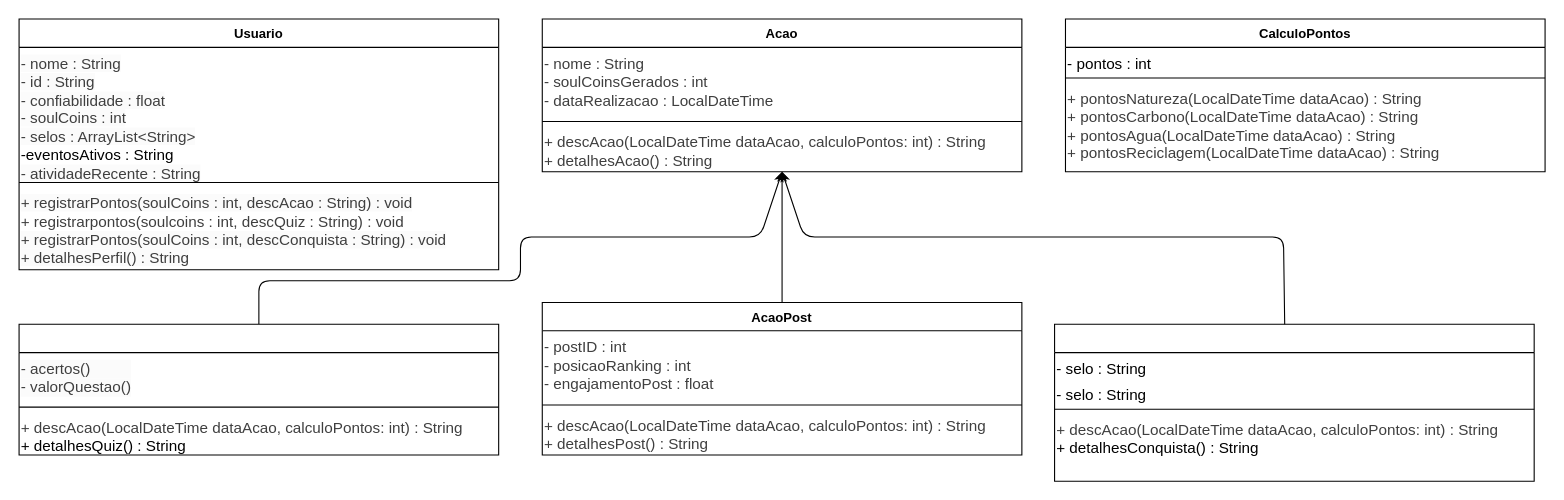
Some shapes in this 1564 by 500 pixel diagram are drawn without their labels. The box of each missing label's shape, as (x1, y1, x2, y2) in pixels:
AcaoConquista: (1053, 323, 1534, 481)
AcaoQuiz: (18, 323, 499, 455)
